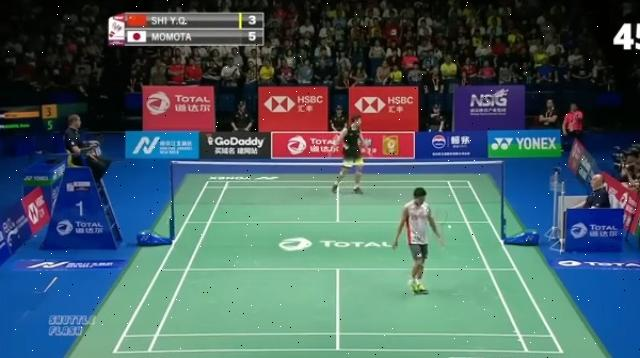Shuttlecock: (448, 221, 454, 230)
